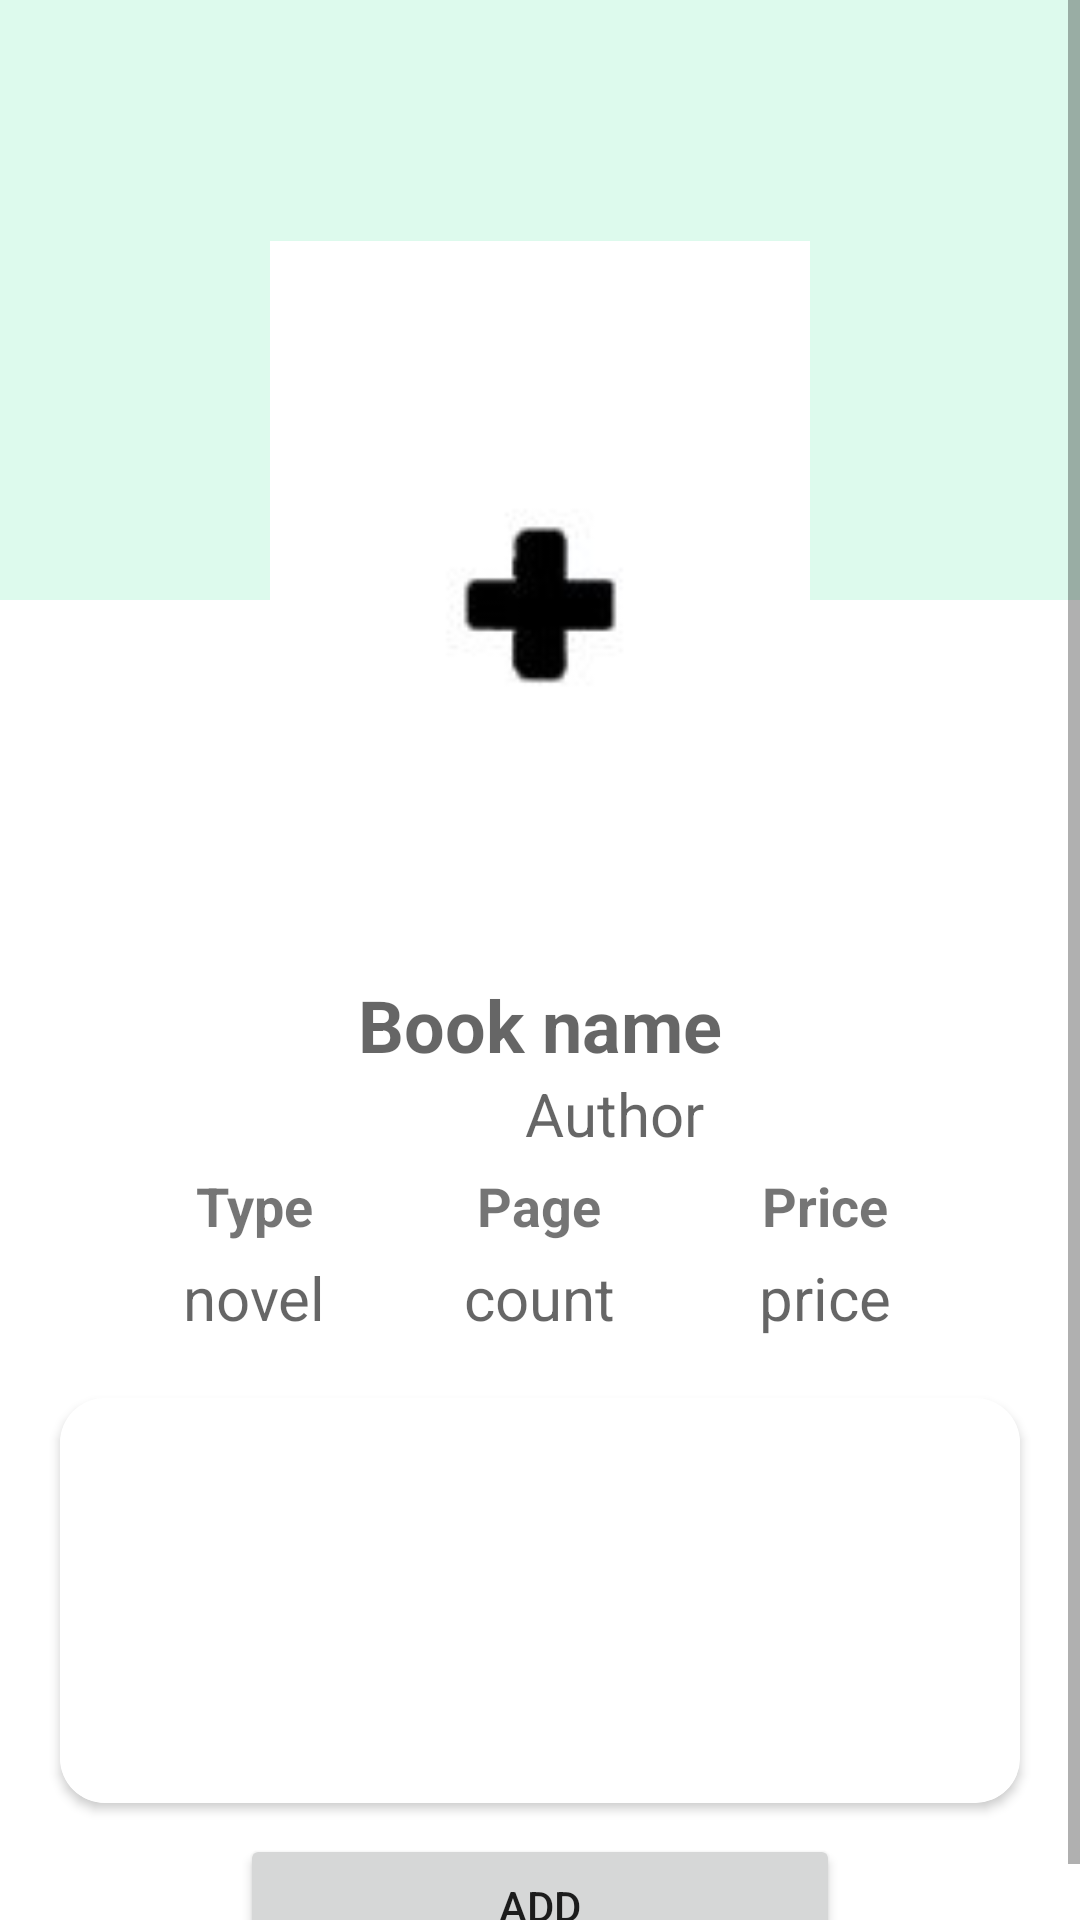

Icons on this 1080×1920 Android screen, each with its box as bbox=(x1, y1, x2, y2):
imgadd: bbox=(463, 526, 616, 683)
